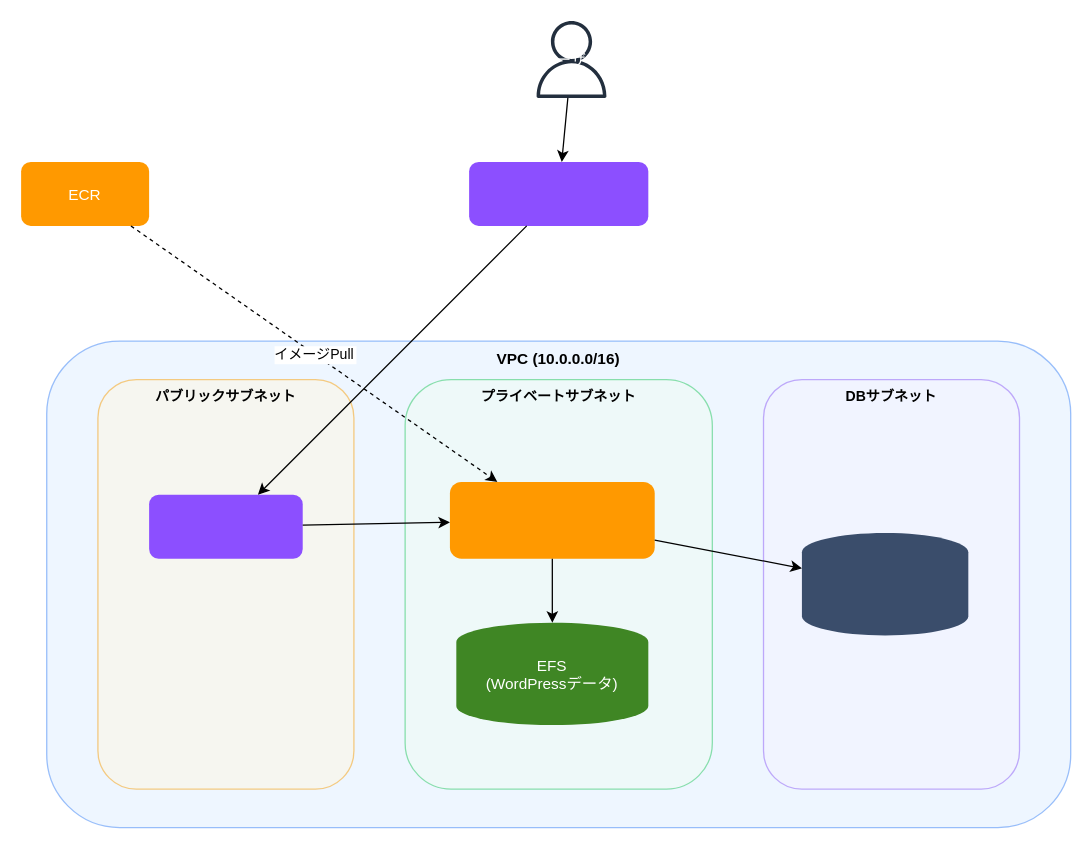
The diagram is 1092 pixels wide and 849 high, and some of its shapes have lost their labels. The shapes that lost their labels are listed below. From the top down, each one's centre as x and y in pixels, then its label:
(558,193): CloudFront
(225,526): ALB
(551,519): ECS Fargate WordPress
(884,583): RDS MySQL 8.0 (db.t3.micro)
